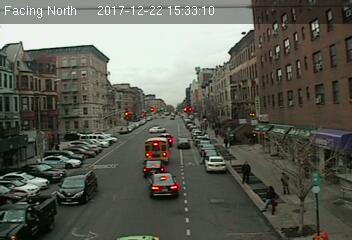car: (58, 171, 99, 206), (147, 172, 179, 198), (203, 155, 227, 173), (143, 159, 165, 177), (174, 137, 192, 150)
pedestrian: (241, 160, 251, 185), (280, 172, 289, 193)
truck: (144, 136, 169, 163)
